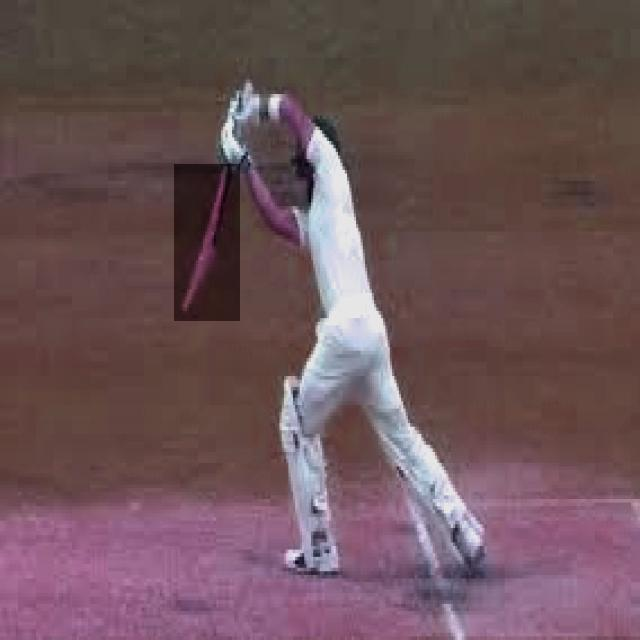bat: (174, 165, 241, 324)
